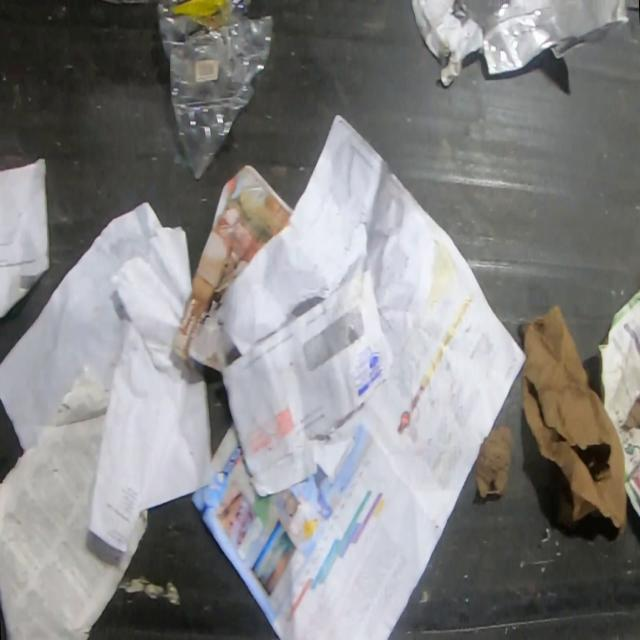cardboard: (518, 305, 625, 529), (476, 424, 513, 499)
rigid_plastic: (158, 0, 276, 178)
